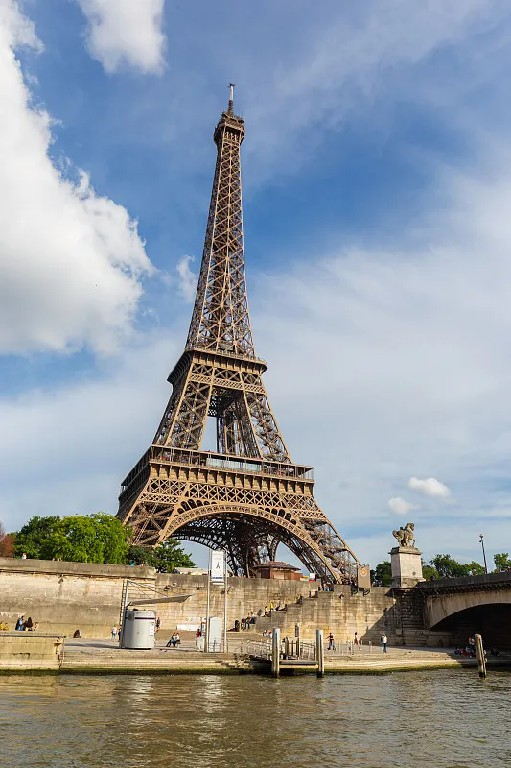Eiffel: (113, 82, 361, 583)
